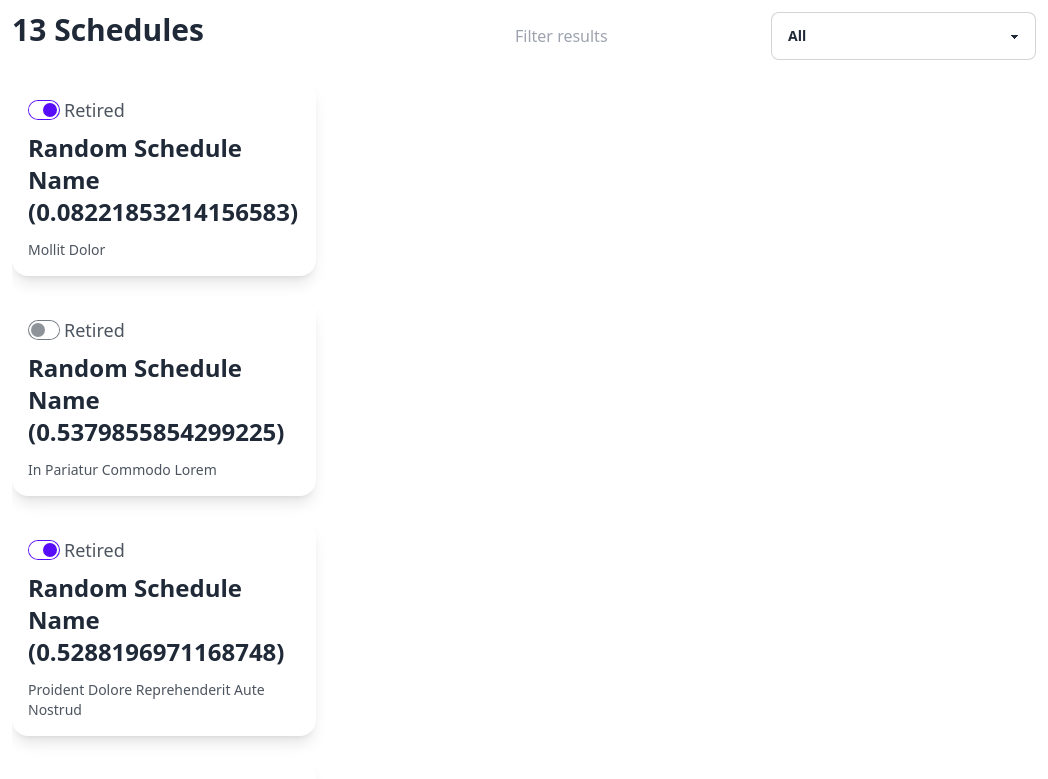
Test case: Card Grid Component › shows all elements if filtered by status All
Select "Unretired" in the dropdown at (904, 36), box [771,12,1036,60]
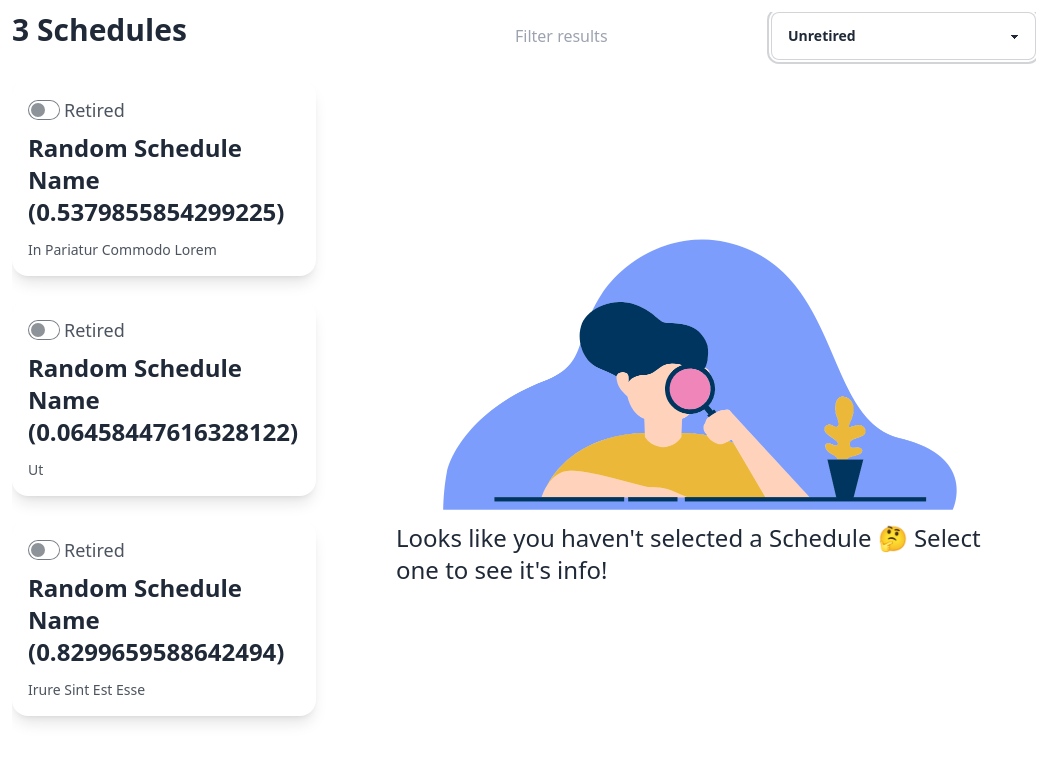
Select "All" in the dropdown at (904, 36), box [771,12,1036,60]
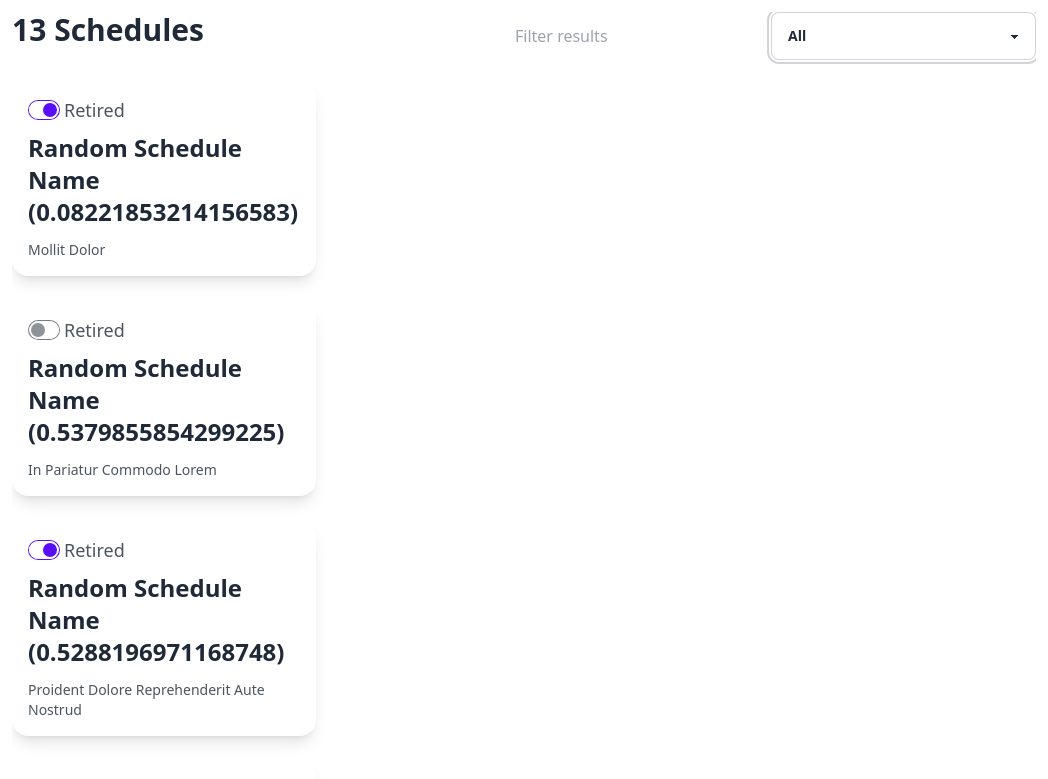
Now the number of checkboxes is 13
